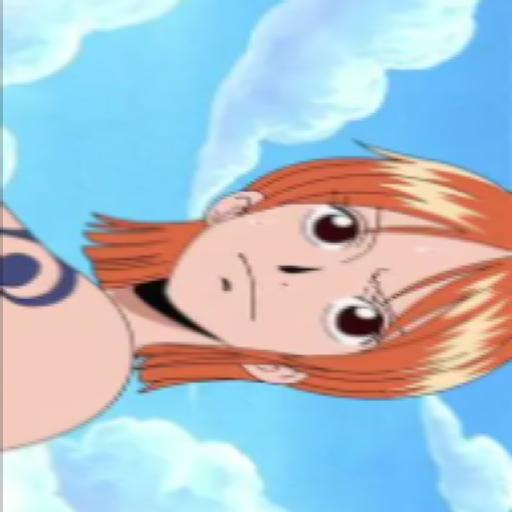Nami: (0, 131, 512, 456)
